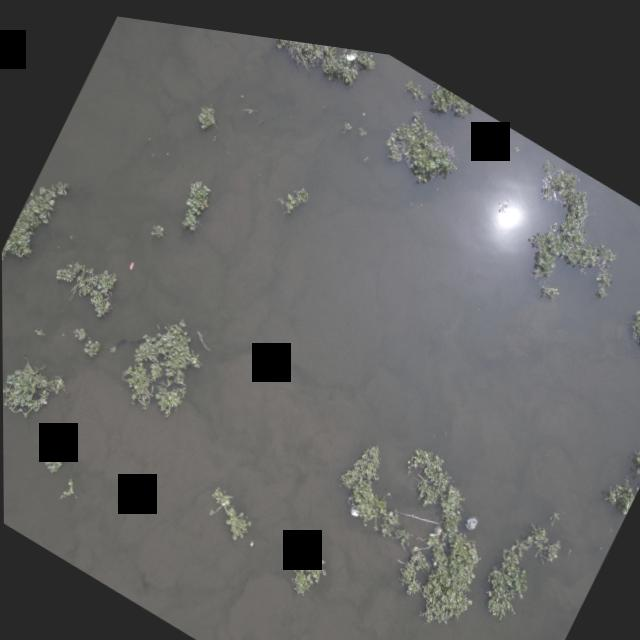plastic: (458, 494, 484, 523), (341, 38, 361, 56), (346, 491, 362, 509), (245, 530, 256, 543), (125, 255, 136, 268), (360, 99, 367, 106)
